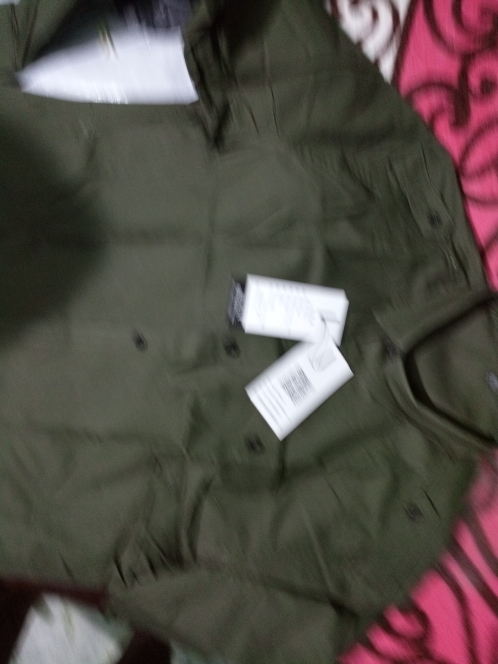shirts: (3, 1, 491, 662)
